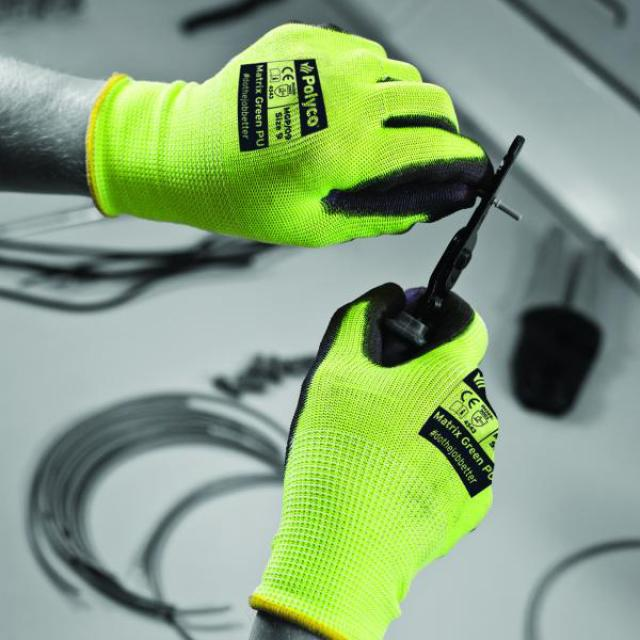gloves: (244, 282, 503, 640), (84, 20, 494, 246)
